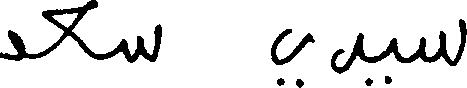X: (44, 0, 95, 63), (421, 14, 466, 70), (272, 24, 310, 87), (124, 19, 159, 67), (333, 28, 360, 78), (0, 25, 23, 65), (388, 33, 396, 87)
